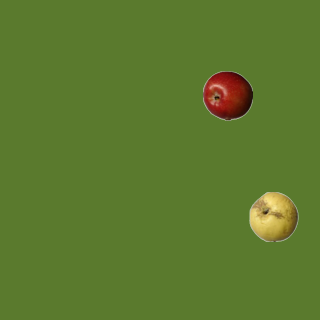Apple Braeburn: (202, 70, 252, 120)
Apple Golden 1: (248, 191, 298, 241)
